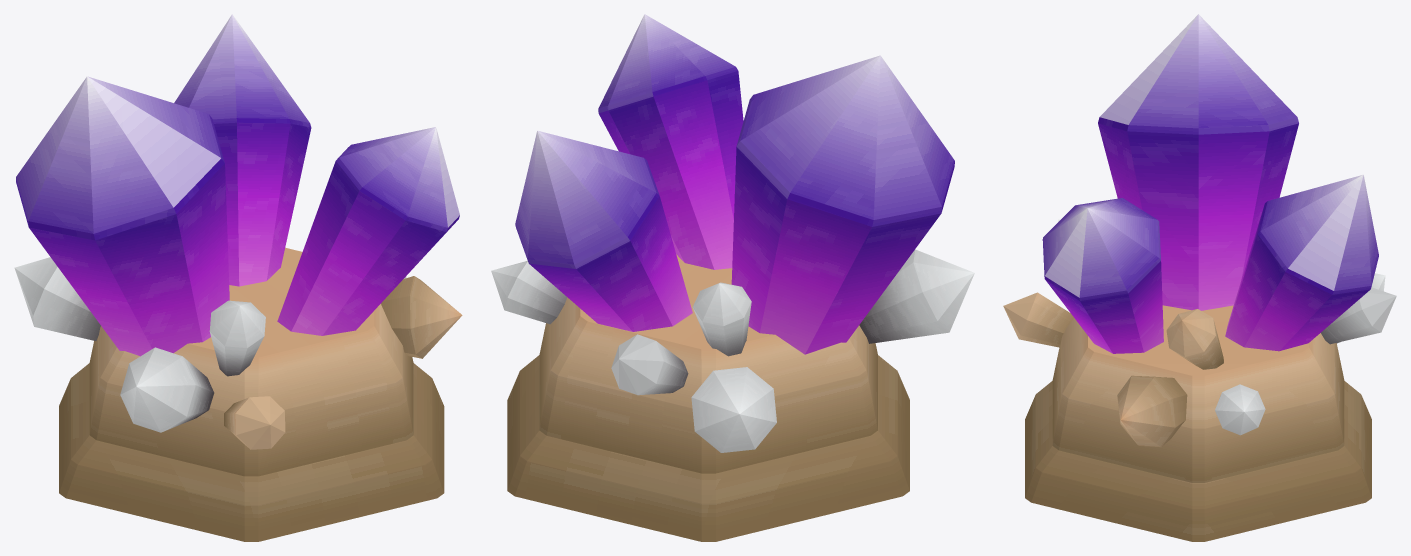
Rendered from Stickman_Level.glb.
3 renders of one model, left to right at view 1: azimuth 30°, elevation 25°; view 2: azimuth 150°, elevation 25°; view 3: azimuth 270°, elevation 25°, orthographic. The views are drawn at different scales.
Visible parts, largest first — view 1: Crystal; view 2: Crystal; view 3: Crystal.
Part boxes in pixels (box(x1,y1,x2,y2)): Crystal: box(14, 14, 462, 541); Crystal: box(491, 14, 974, 541); Crystal: box(1003, 14, 1396, 541).
Size of what is drawn, in the model's own units: 1.43 by 1.37 by 1.32.
1 material, 1 textured.
